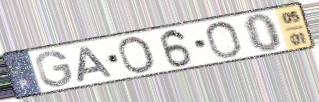0: (240, 12, 284, 54)
6: (158, 28, 194, 68)
A: (76, 44, 116, 83)
G: (34, 49, 74, 89)
O: (117, 35, 158, 76), (203, 19, 244, 60)
